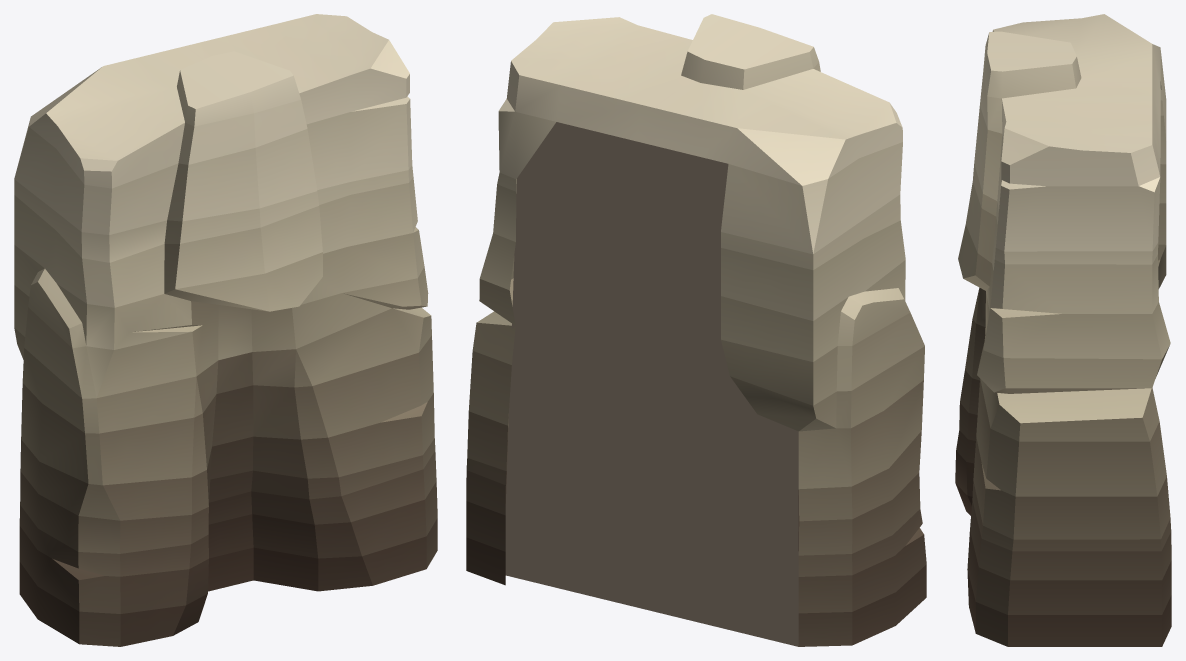
File: Canyon_Wall_3B.fbx
3 views of the same model, side by side, from view 1: azimuth 30°, elevation 25°; view 2: azimuth 150°, elevation 25°; view 3: azimuth 270°, elevation 25° (orthographic). The views are drawn at different scales.
Visible parts, largest first — view 1: Canyon_Wall_3B; view 2: Canyon_Wall_3B; view 3: Canyon_Wall_3B.
Boxes of the visible parts, x1,y1,x2,y2 form: Canyon_Wall_3B: (14,14,437,646); Canyon_Wall_3B: (466,14,926,646); Canyon_Wall_3B: (955,14,1171,646).
Bounding box in the file's own units: 2359 × 3152 × 1227.
